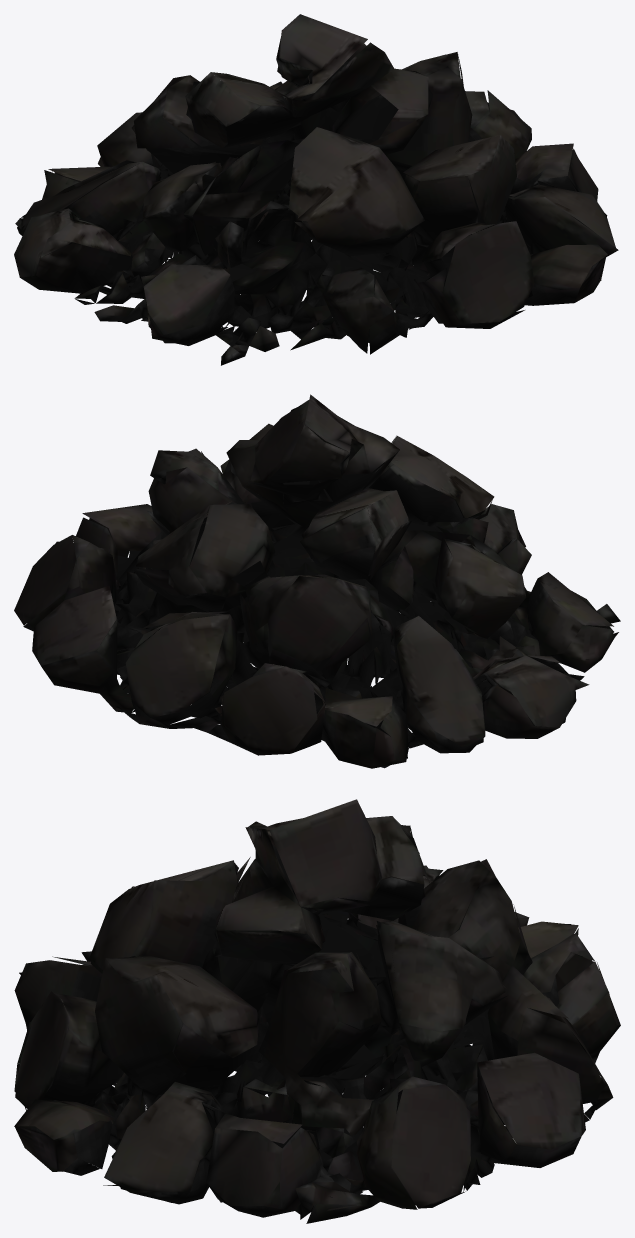
The model's file is carbon.glb.
3 renders of one model, top to bottom at view 1: azimuth 30°, elevation 25°; view 2: azimuth 150°, elevation 25°; view 3: azimuth 270°, elevation 25°, orthographic. The views are drawn at different scales.
Parts seen in each view (by area): view 1: geometry_0; view 2: geometry_0; view 3: geometry_0.
Part boxes in pixels (left/top/right/bottom): geometry_0: left=14, top=14, right=618, bottom=365; geometry_0: left=14, top=394, right=620, bottom=768; geometry_0: left=14, top=799, right=620, bottom=1223.
Size of the model in its own units: 1.2 by 0.509 by 1.
Materials: 1 (1 with a texture image).
